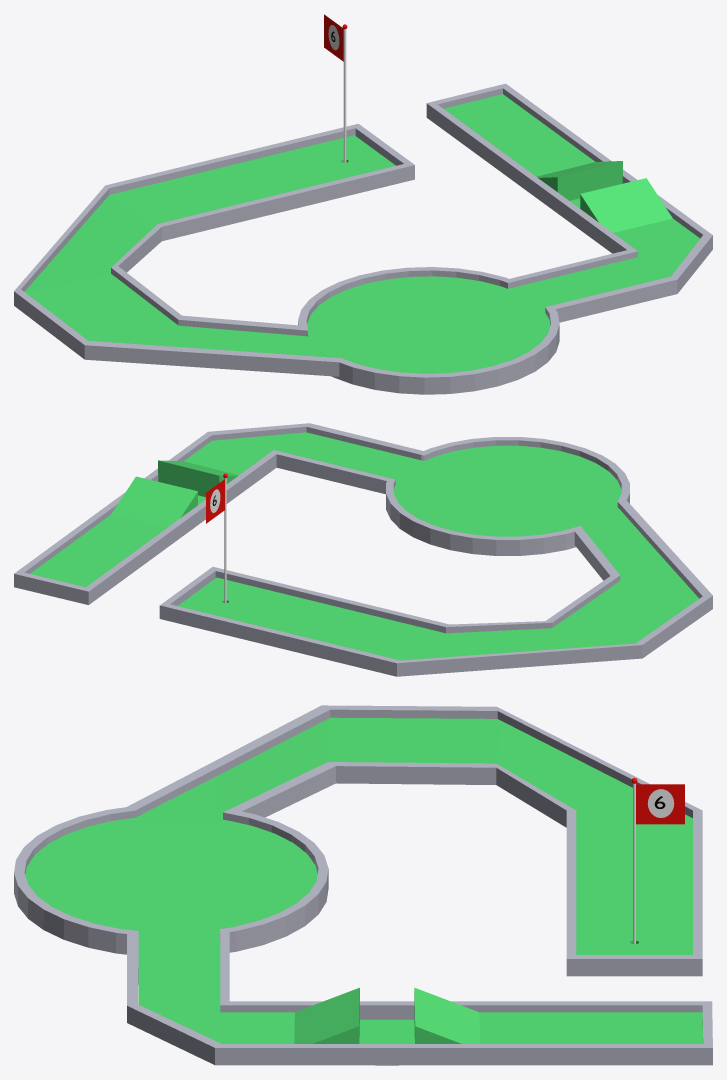
File: bane 6.fbx
The picture shows the model from 3 angles, top to bottom: view 1: azimuth 30°, elevation 25°; view 2: azimuth 150°, elevation 25°; view 3: azimuth 270°, elevation 25°; orthographic projection. The views are drawn at different scales.
Parts seen in each view (by area): view 1: bane.001, cirkel, mål, indvendig væg, cirkelvæg, start, bane ved rampe, væg, slut vægh, rampe, start væg, slut vægh.001; view 2: bane.001, cirkel, mål, start, cirkelvæg, bane ved rampe, væg, indvendig væg, slut vægh, rampe, start væg, slut vægh.001 (+1 smaller); view 3: bane.001, cirkel, slut vægh, start, cirkelvæg, bane ved rampe, indvendig væg, mål, væg, rampe, slut vægh.001, Cube (+2 smaller).
Part boxes in pixels (x1,y1,x2,y2): bane.001: [24, 135, 395, 360]; cirkel: [307, 276, 550, 373]; mål: [14, 123, 361, 376]; indvendig væg: [111, 162, 414, 335]; cirkelvæg: [298, 267, 559, 394]; start: [444, 94, 622, 208]; bane ved rampe: [508, 218, 700, 311]; væg: [430, 104, 637, 287]; slut vægh: [503, 86, 712, 322]; rampe: [580, 178, 672, 232]; start væg: [426, 83, 509, 120]; slut vægh.001: [355, 126, 410, 165]; bane.001: [178, 502, 698, 660]; cirkel: [393, 445, 621, 536]; mål: [160, 499, 712, 676]; start: [30, 476, 201, 587]; cirkelvæg: [386, 437, 629, 555]; bane ved rampe: [184, 432, 422, 483]; væg: [86, 450, 391, 601]; indvendig væg: [209, 529, 620, 633]; slut vægh: [18, 423, 424, 573]; rampe: [158, 460, 238, 501]; start væg: [14, 571, 92, 604]; slut vægh.001: [159, 569, 215, 618]; bane.001: [126, 717, 692, 954]; cirkel: [25, 815, 317, 939]; slut vægh: [127, 932, 705, 1065]; start: [374, 987, 702, 1065]; cirkelvæg: [14, 807, 328, 954]; bane ved rampe: [138, 936, 294, 1043]; indvendig væg: [230, 762, 576, 958]; mål: [124, 705, 702, 958]; væg: [220, 931, 702, 1019]; rampe: [294, 987, 398, 1065]; slut vægh.001: [566, 955, 702, 976]; Cube: [636, 784, 684, 824].
Bounding box in the file's own units: 551 × 133 × 475.
